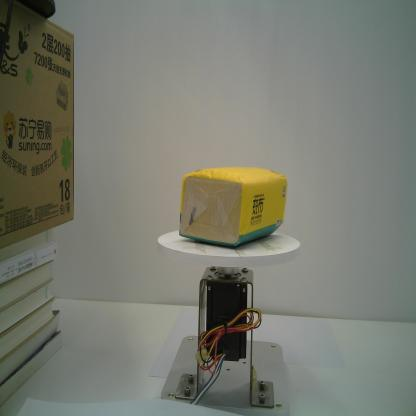Tissue: (177, 164, 289, 251)
